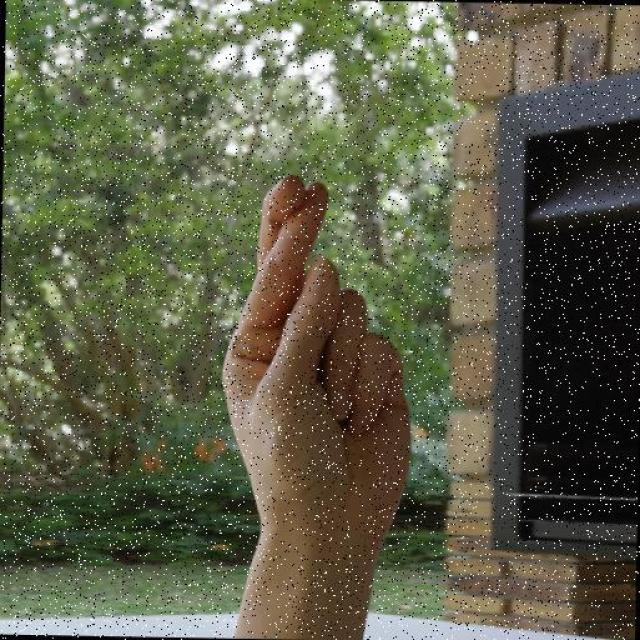R: (170, 125, 454, 640)
